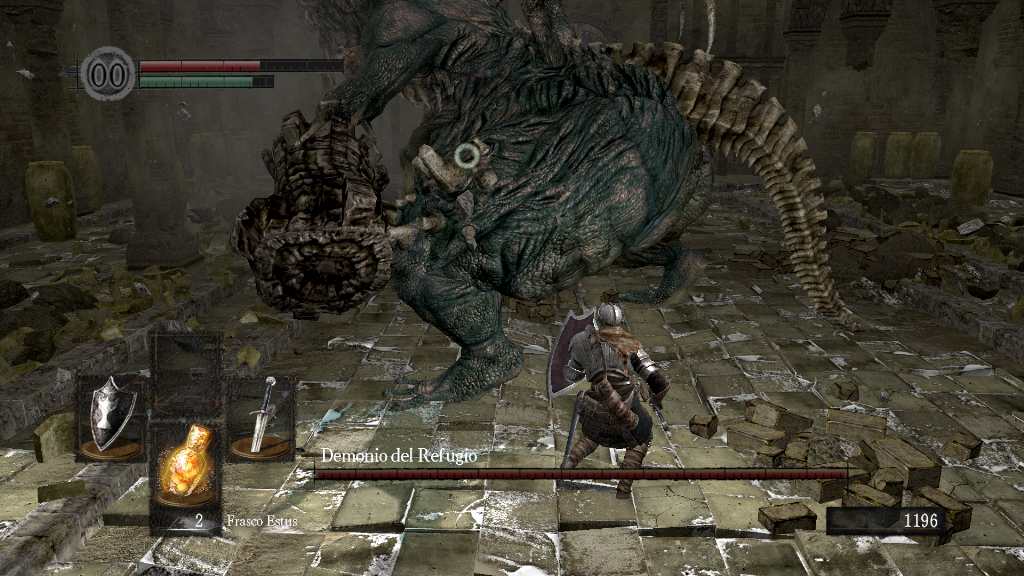asylumDemon: (232, 3, 876, 412)
bossHP: (314, 469, 847, 479)
health: (138, 58, 343, 71)
humanity: (80, 45, 136, 102)
player: (544, 299, 671, 502)
souls: (825, 506, 945, 536)
stamina: (138, 74, 274, 88)
